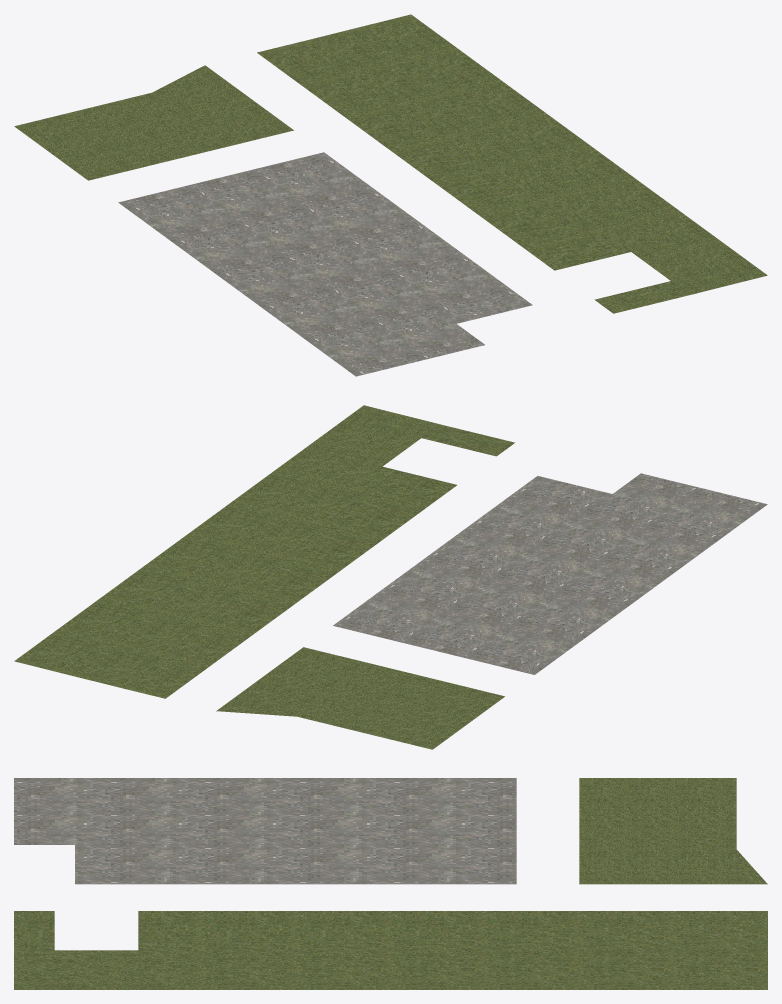
File: lodaswedge10.obj
3 views of the same model, one above another, from view 1: azimuth 30°, elevation 25°; view 2: azimuth 150°, elevation 25°; view 3: azimuth 270°, elevation 25° (orthographic). The views are drawn at different scales.
Visible parts, largest first — view 1: lodasWedge10; view 2: lodasWedge10; view 3: lodasWedge10.
Part boxes in pixels (x1,y1,x2,y2): lodasWedge10: (14, 14, 767, 376); lodasWedge10: (14, 405, 767, 749); lodasWedge10: (14, 778, 767, 989).
Bounding box in the file's own units: 160 × 0.2 × 240.
2 materials, 2 textured.
